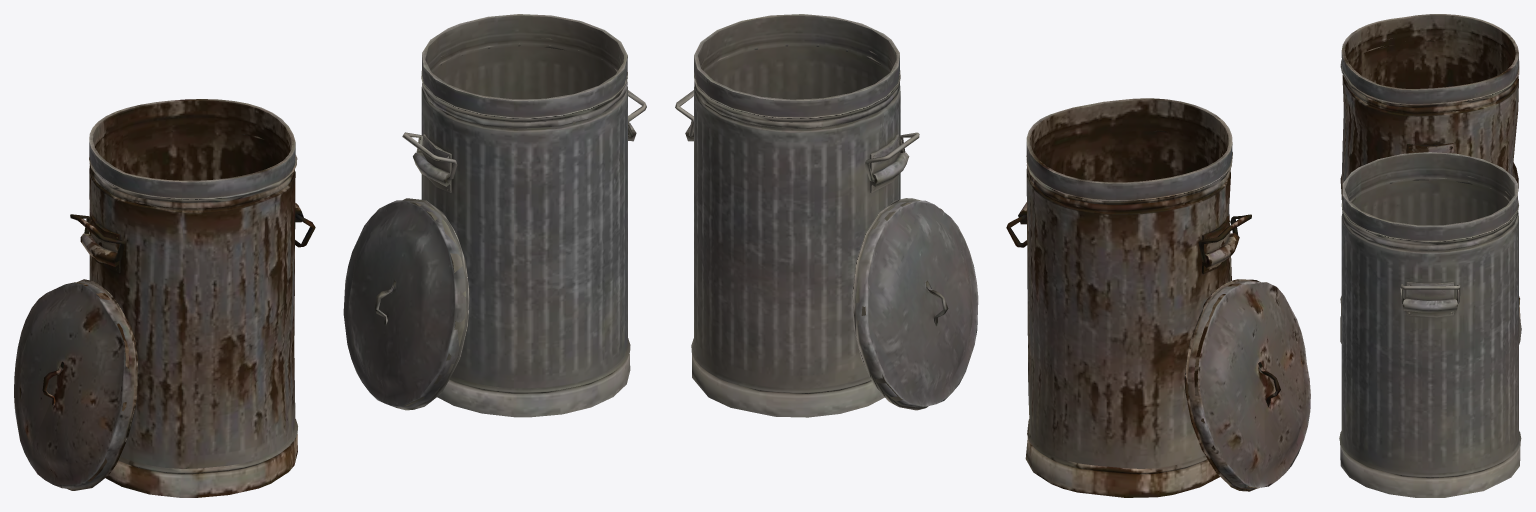
Rendered from metal_trash_can.glb.
3 views of the same model, side by side, from view 1: azimuth 30°, elevation 25°; view 2: azimuth 150°, elevation 25°; view 3: azimuth 270°, elevation 25° (orthographic). The views are drawn at different scales.
Parts seen in each view (by area): view 1: metal_trash_can_handle_left, metal_trash_can_rust; view 2: metal_trash_can_handle_left, metal_trash_can_rust; view 3: metal_trash_can_handle_left, metal_trash_can_rust.
Boxes of the visible parts, box(x1,y1,x2,y2) form: metal_trash_can_handle_left: box(343, 14, 646, 417); metal_trash_can_rust: box(14, 99, 315, 497); metal_trash_can_handle_left: box(675, 14, 978, 417); metal_trash_can_rust: box(1006, 98, 1310, 497); metal_trash_can_handle_left: box(1339, 152, 1521, 497); metal_trash_can_rust: box(1340, 14, 1520, 319).
Size of the model in its own units: 1.78 by 0.9062 by 0.5533.
Materials: 2 (2 with a texture image).
